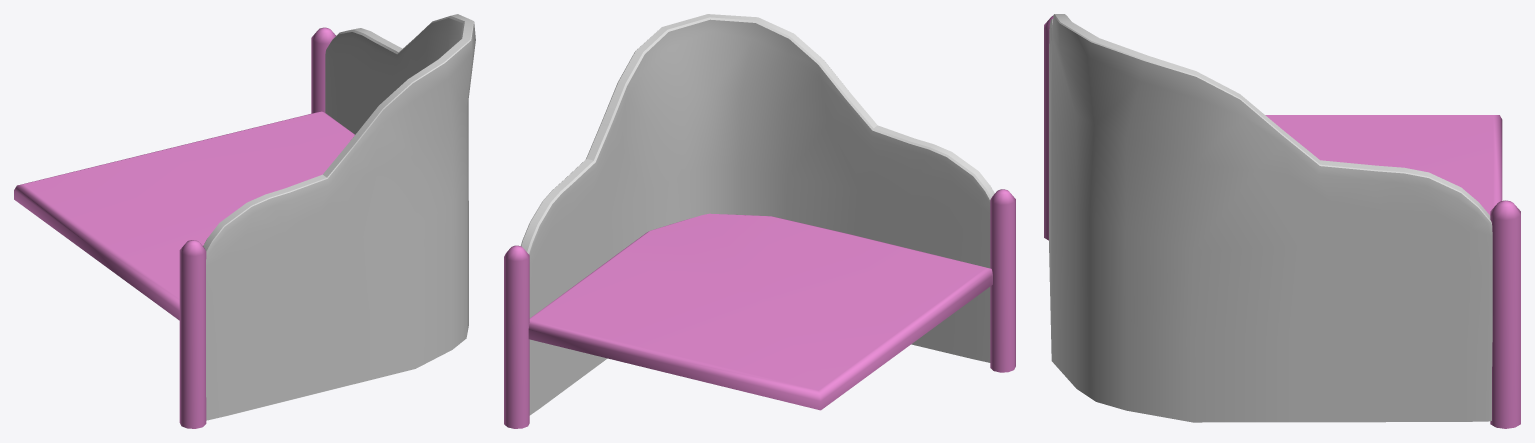
File: ENV_HAU_SHOWCASECORNERTOP_MODEL.fbx
3 renders of one model, left to right at view 1: azimuth 30°, elevation 25°; view 2: azimuth 150°, elevation 25°; view 3: azimuth 270°, elevation 25°, orthographic. The views are drawn at different scales.
Visible parts, largest first — view 1: ENV_HAU_SHOWCASECORNERTOP_MODEL; view 2: ENV_HAU_SHOWCASECORNERTOP_MODEL; view 3: ENV_HAU_SHOWCASECORNERTOP_MODEL.
Part boxes in pixels (bbox=[...]): ENV_HAU_SHOWCASECORNERTOP_MODEL: bbox=[14, 14, 475, 428]; ENV_HAU_SHOWCASECORNERTOP_MODEL: bbox=[504, 14, 1015, 428]; ENV_HAU_SHOWCASECORNERTOP_MODEL: bbox=[1044, 14, 1520, 428].
Bounding box in the file's own units: 86.99 × 74.25 × 87.64.
